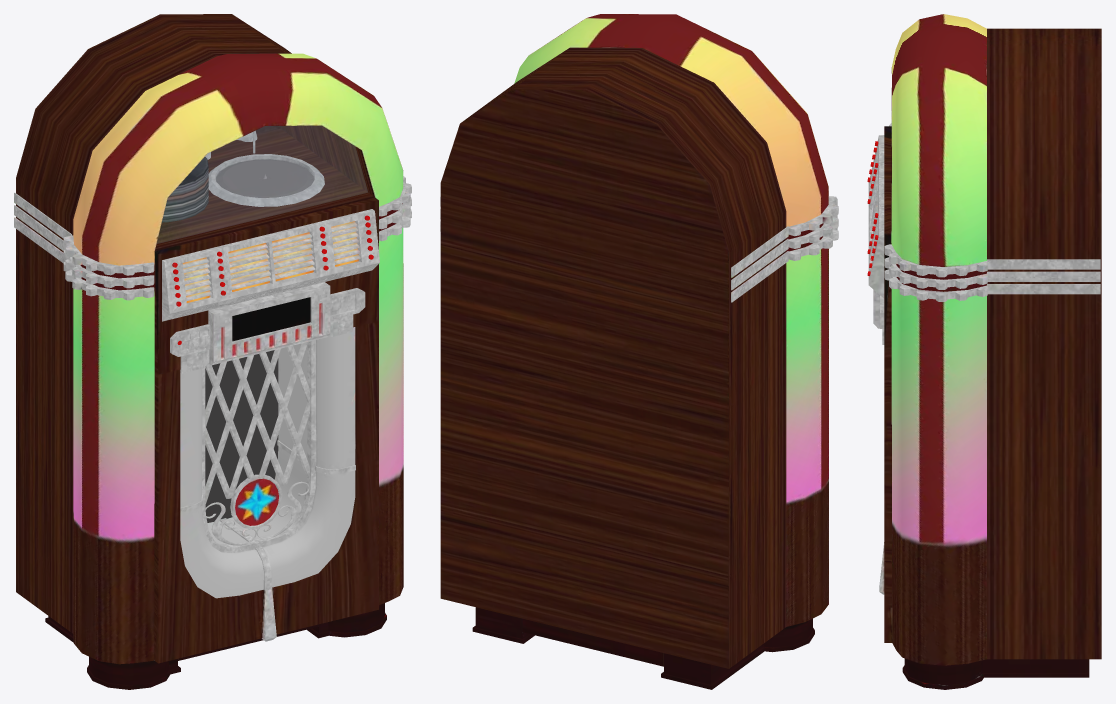
Rendered from jukebox.glb.
3 renders of one model, left to right at view 1: azimuth 30°, elevation 25°; view 2: azimuth 150°, elevation 25°; view 3: azimuth 270°, elevation 25°, orthographic.
Visible parts, largest first — view 1: Object_3, Object_2; view 2: Object_3; view 3: Object_3.
Part boxes in pixels (x1=…): Object_3: x1=14, y1=14, x2=411, y2=689; Object_2: x1=157, y1=126, x2=367, y2=243; Object_3: x1=440, y1=14, x2=838, y2=689; Object_3: x1=867, y1=14, x2=1101, y2=689.
Bounding box in the file's own units: 4.21 × 7.14 × 2.58.
2 materials, 2 textured.
